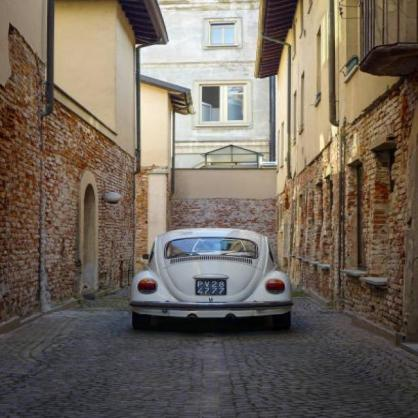car: (130, 229, 295, 333)
